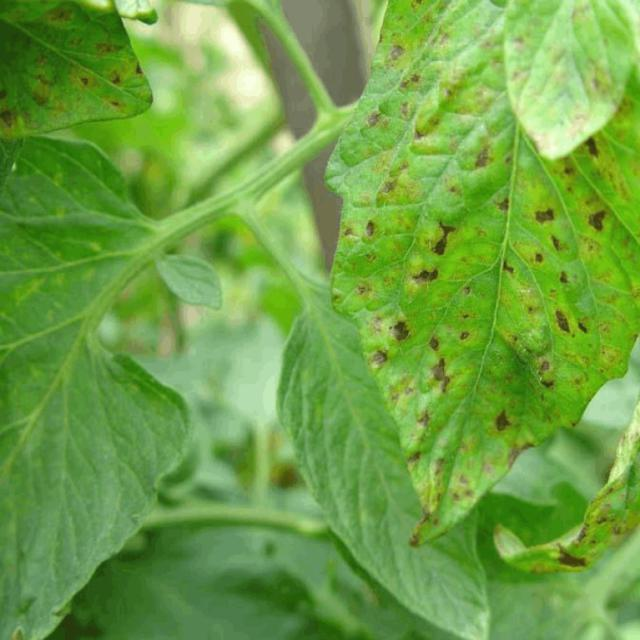Early_blight: (425, 217, 458, 262), (554, 536, 590, 570), (504, 436, 536, 472), (551, 300, 577, 337), (46, 2, 76, 27), (2, 89, 18, 134), (433, 356, 452, 391), (472, 140, 494, 170), (585, 207, 611, 232), (364, 107, 391, 130), (409, 267, 440, 287), (395, 70, 422, 92), (538, 357, 557, 388), (389, 318, 413, 342), (533, 204, 558, 227), (365, 346, 388, 370), (582, 132, 605, 156), (414, 409, 434, 436), (376, 172, 395, 199), (94, 38, 121, 57), (384, 42, 406, 65), (491, 192, 513, 214), (490, 406, 511, 428), (361, 215, 378, 241), (496, 257, 520, 275), (106, 68, 127, 86), (549, 230, 566, 251), (130, 58, 147, 79), (408, 448, 423, 471), (576, 317, 590, 338), (424, 336, 442, 352), (556, 266, 571, 284), (78, 74, 97, 87), (458, 329, 474, 344), (534, 250, 547, 268)
